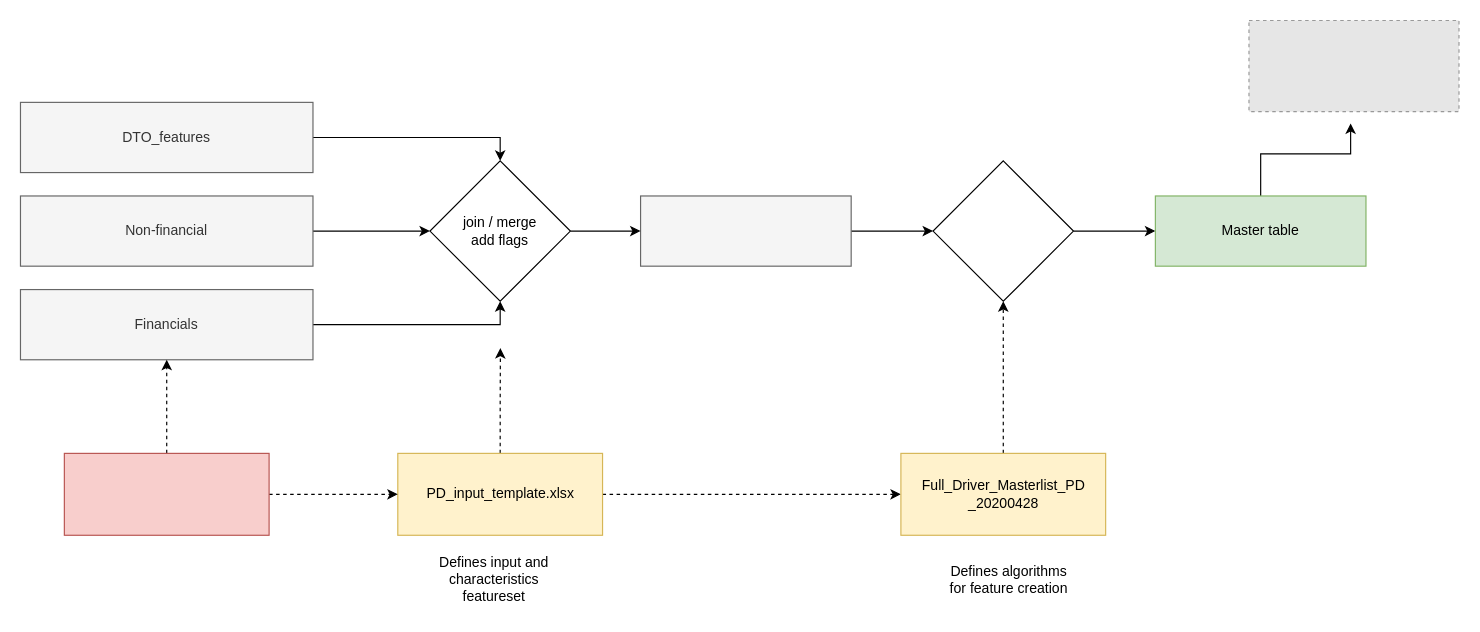
This 1480x632 diagram has some shape labels left out. Grey dashed boxes stand in for pictures. Each missing label, with the centre of its shape:
create / cap / transform/ scale/ impute: the point at 1002,230
Master Raw table: the point at 745,230
Substitute features: the point at 166,493
